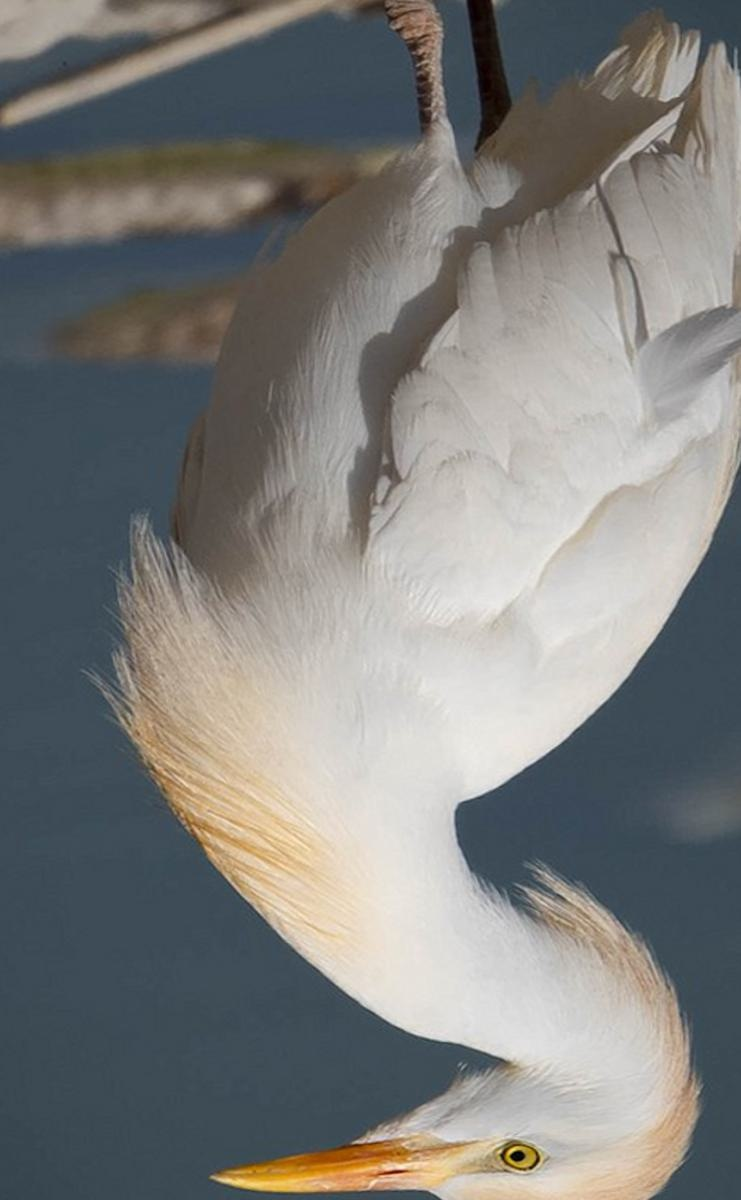egret: (84, 4, 741, 1200)
